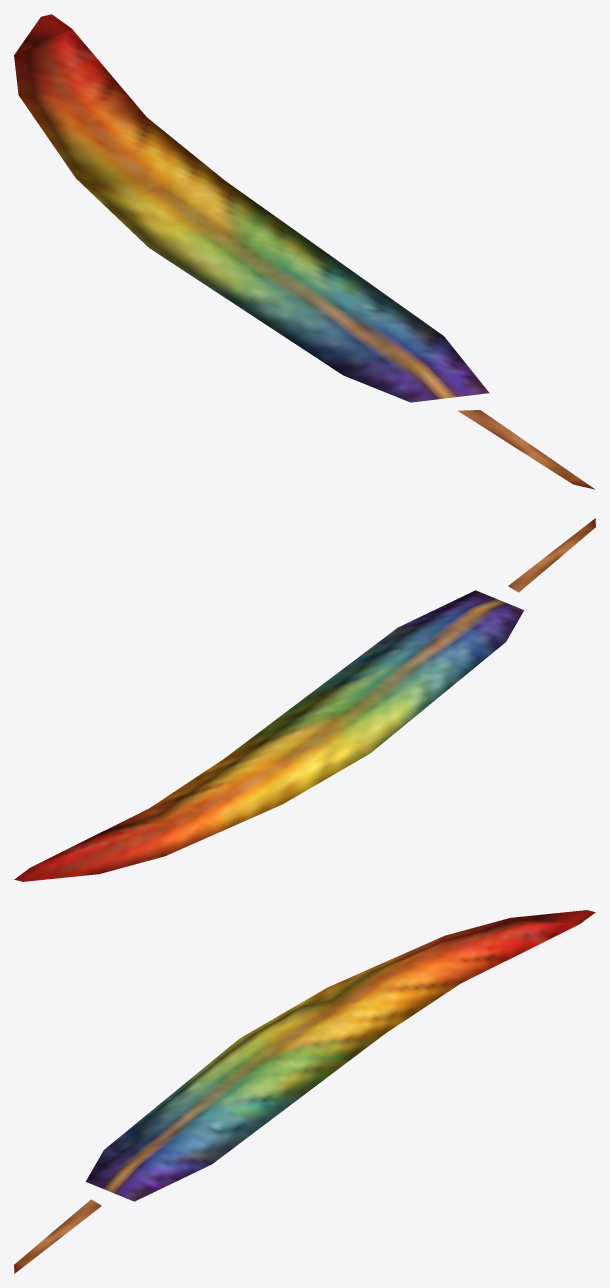
The model's file is item_item164.glb.
3 renders of one model, top to bottom at view 1: azimuth 30°, elevation 25°; view 2: azimuth 150°, elevation 25°; view 3: azimuth 330°, elevation 25°, orthographic. The views are drawn at different scales.
Parts seen in each view (by area): view 1: organic_item164; view 2: organic_item164; view 3: organic_item164.
Part boxes in pixels (bbox=[...]): organic_item164: bbox=[14, 14, 595, 489]; organic_item164: bbox=[14, 518, 595, 881]; organic_item164: bbox=[14, 910, 595, 1273].
Size of the model in its own units: 0.1546 by 0.0165 by 1.
1 material, 1 textured.
